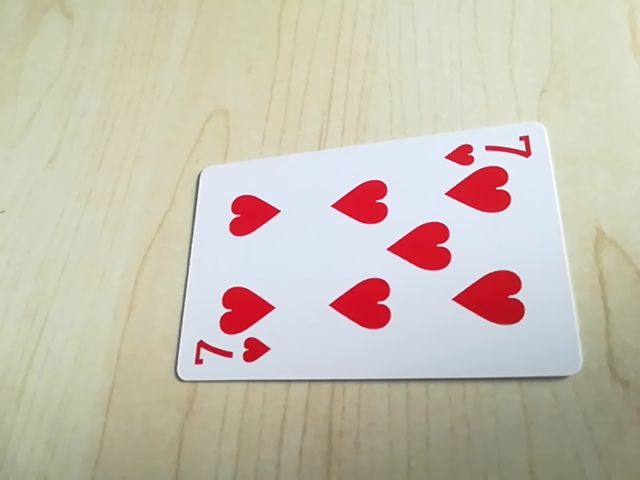hx 7: (441, 129, 538, 167), (191, 334, 275, 374)
